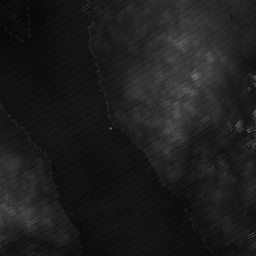Target: (108, 126, 114, 132)
